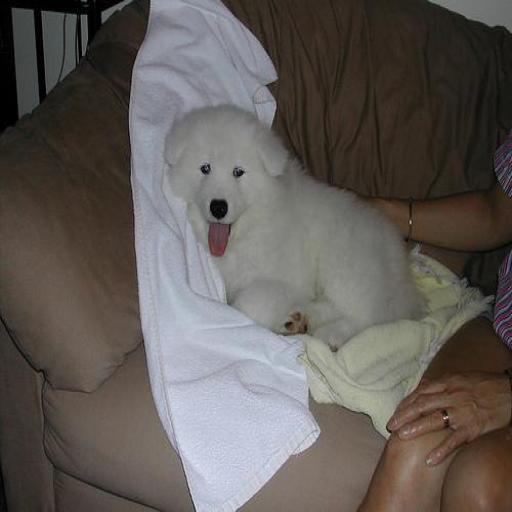dog_face: (168, 108, 288, 265)
